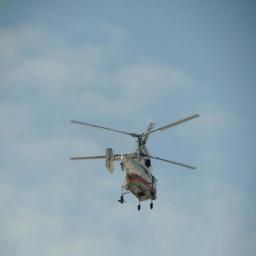helicopter: (67, 113, 200, 211)
